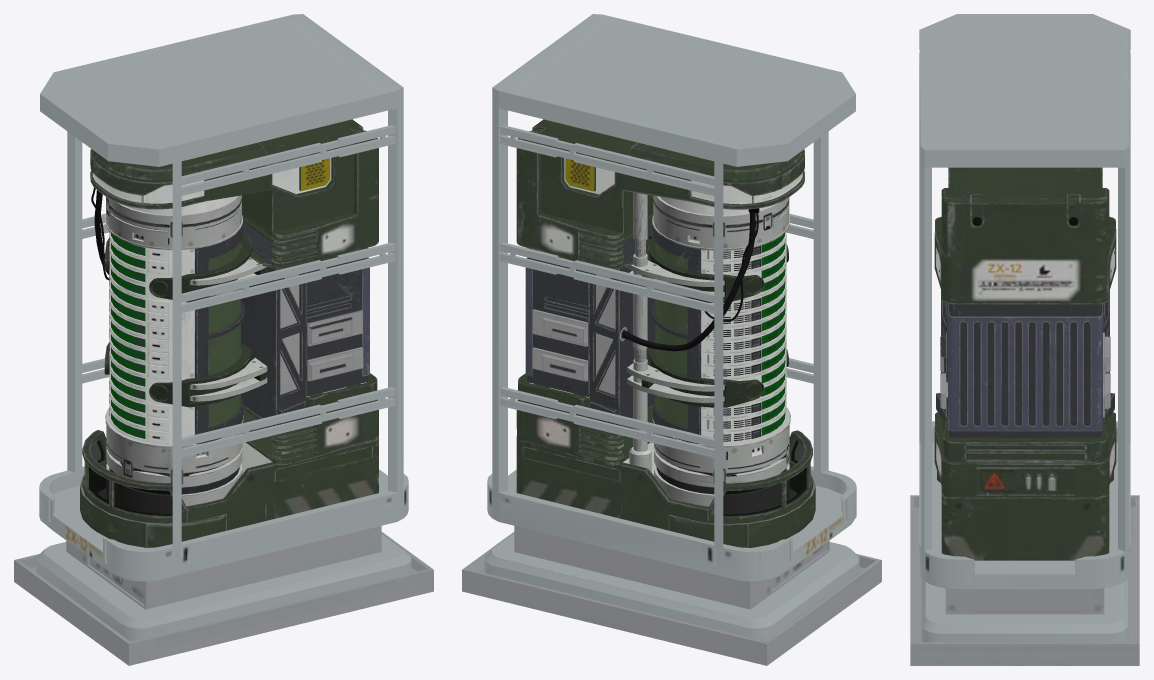
File: server_rack.glb
3 renders of one model, left to right at view 1: azimuth 30°, elevation 25°; view 2: azimuth 150°, elevation 25°; view 3: azimuth 270°, elevation 25°, orthographic.
Visible parts, largest first — view 1: defaultMaterial (×7); view 2: defaultMaterial (×7); view 3: defaultMaterial (×3).
Part boxes in pixels (x1,y1,x2,y2): defaultMaterial (×7): (14,14,433,665); defaultMaterial (×7): (462,14,881,665); defaultMaterial (×3): (910,14,1139,665).
Bounding box in the file's own units: 1.27 × 2 × 0.8248.
Materials: 7 (6 with a texture image).
